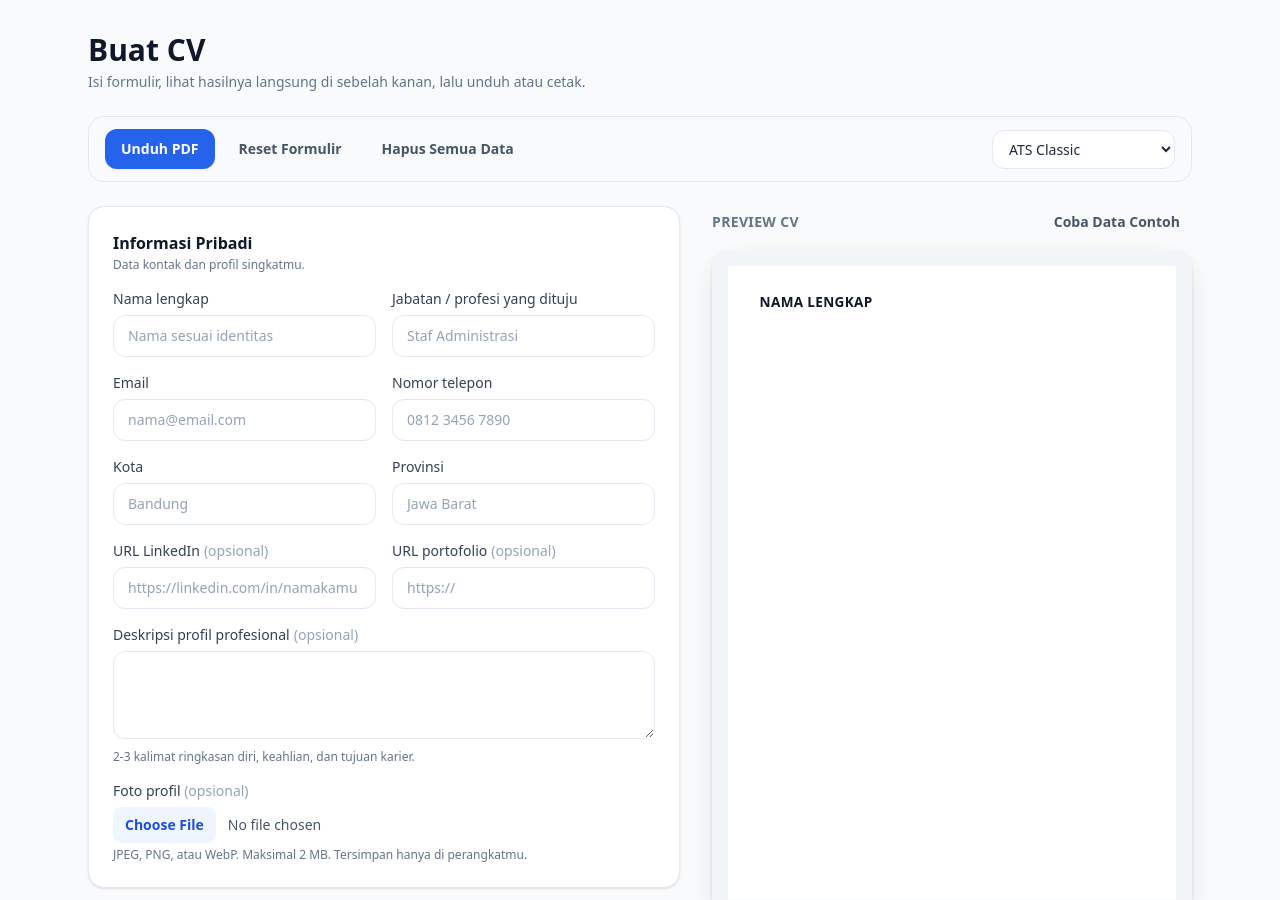
Scenario: Alur lengkap pembuatan CV (integrasi) › reset formulir mengosongkan CV tanpa menghapus draft surat lamaran
Type "Budi Santoso" into the field labelled "Nama lengkap" at (244, 336), box [113,315,376,357]
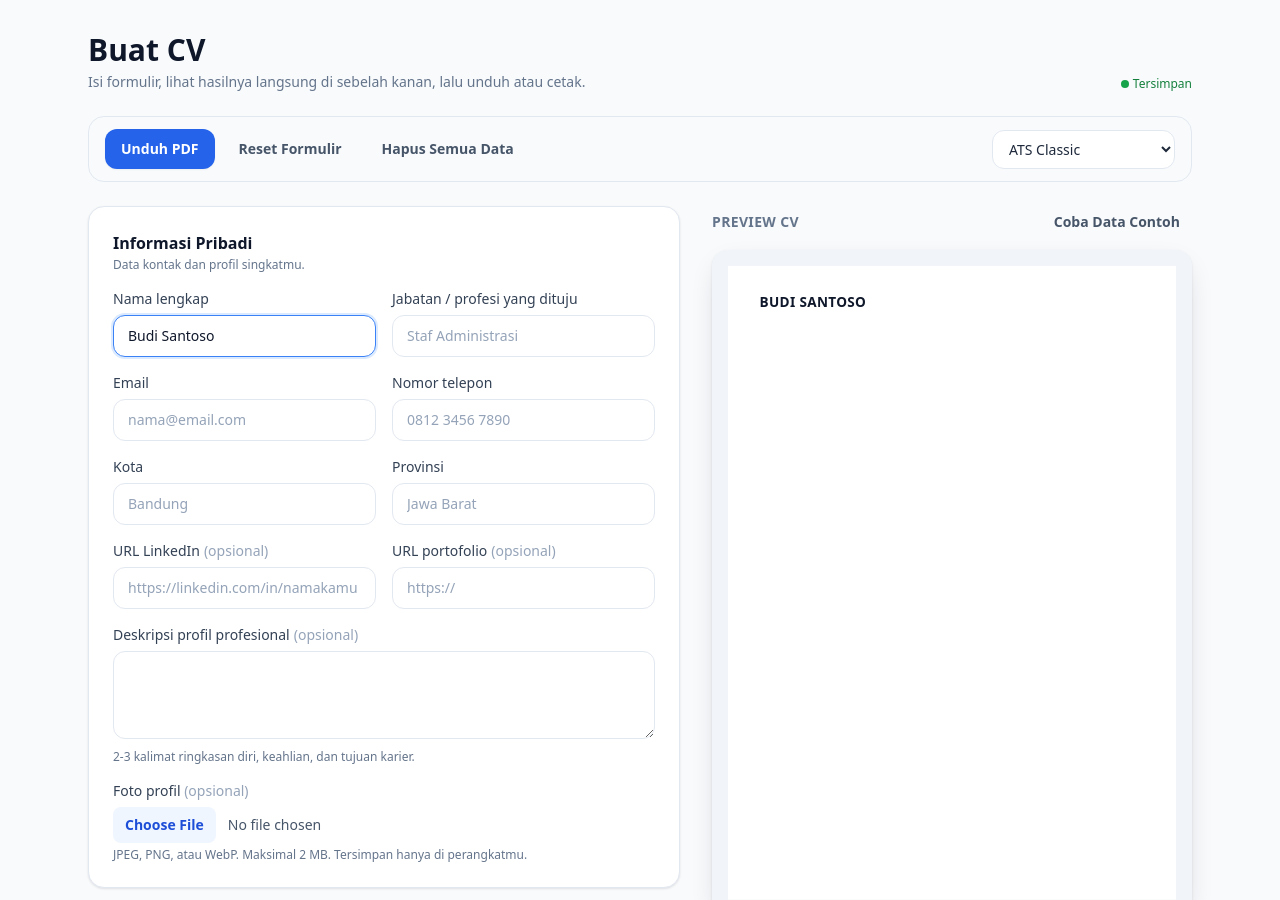
Click the button "Reset Formulir" at (290, 149), box [222,129,358,169]
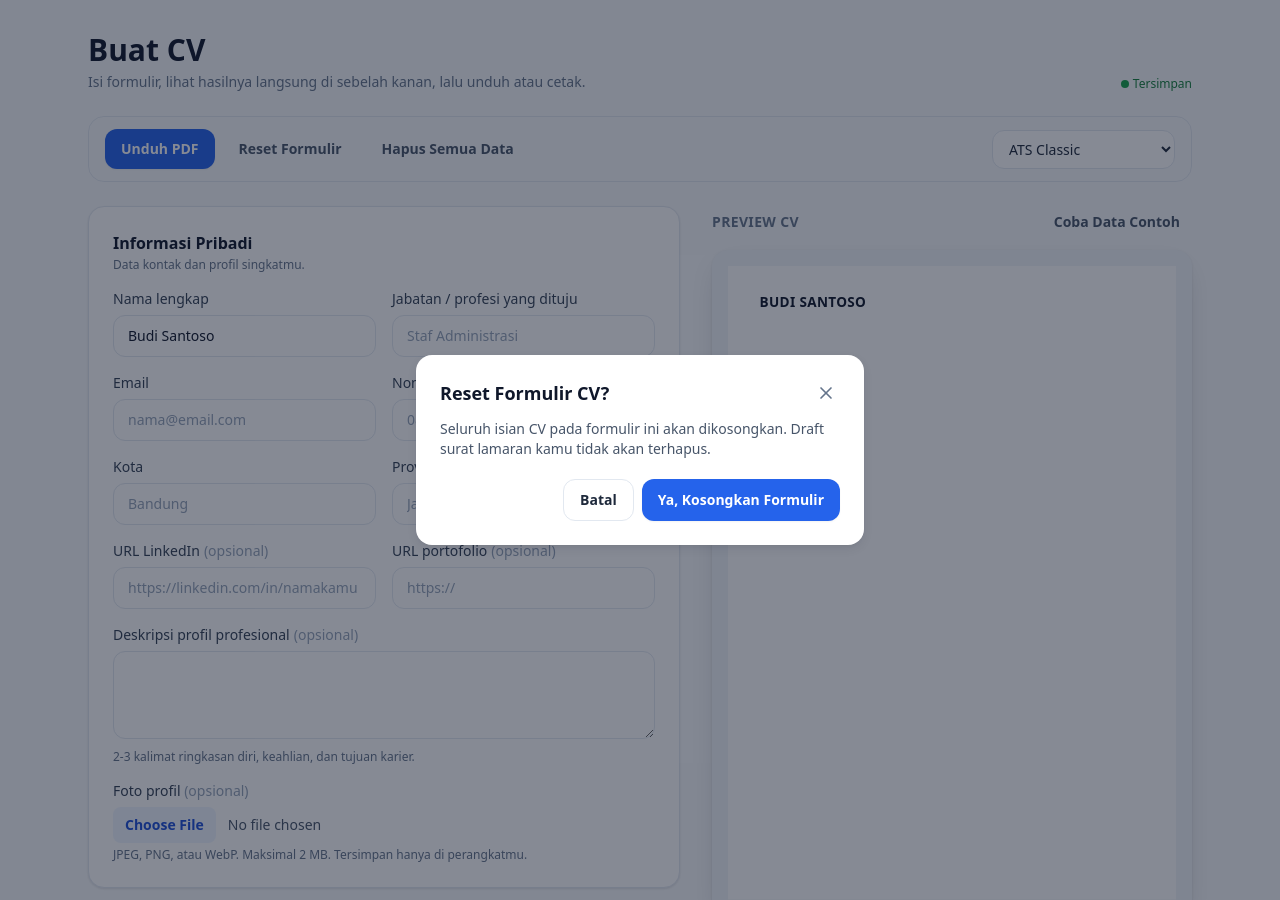
Click the button "Ya, Kosongkan Formulir" at (741, 500), box [642,479,840,521]
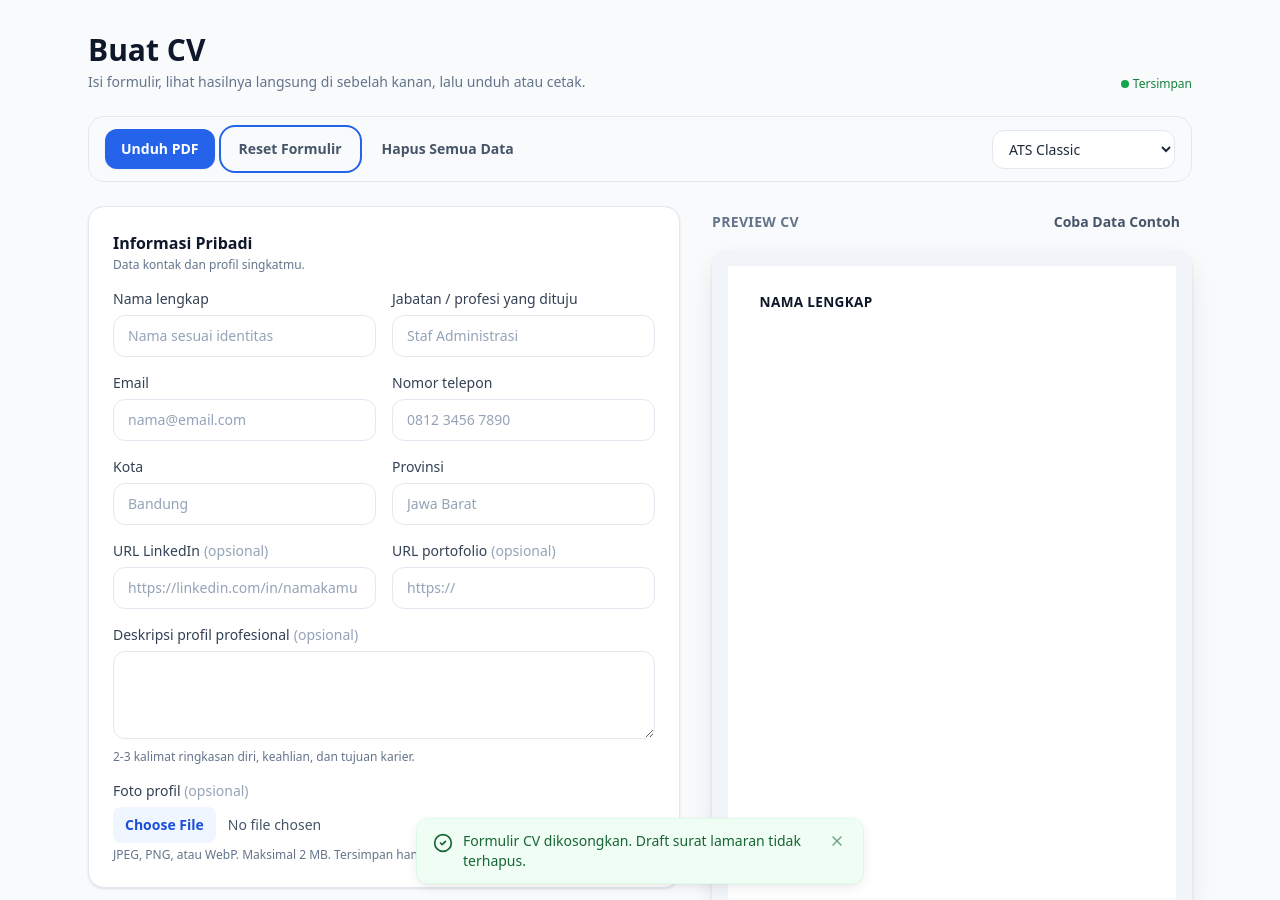
Result: the field labelled "Nama lengkap" is empty at [113,315,376,357]
